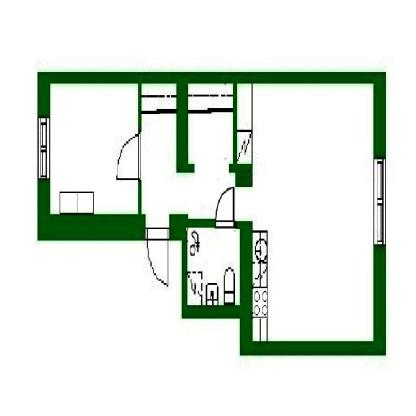door: (145, 227, 170, 289), (117, 136, 142, 181), (215, 188, 235, 225)
window: (373, 158, 386, 242), (38, 116, 50, 178)
zone: (141, 84, 374, 341), (50, 83, 138, 213), (186, 225, 239, 305)
